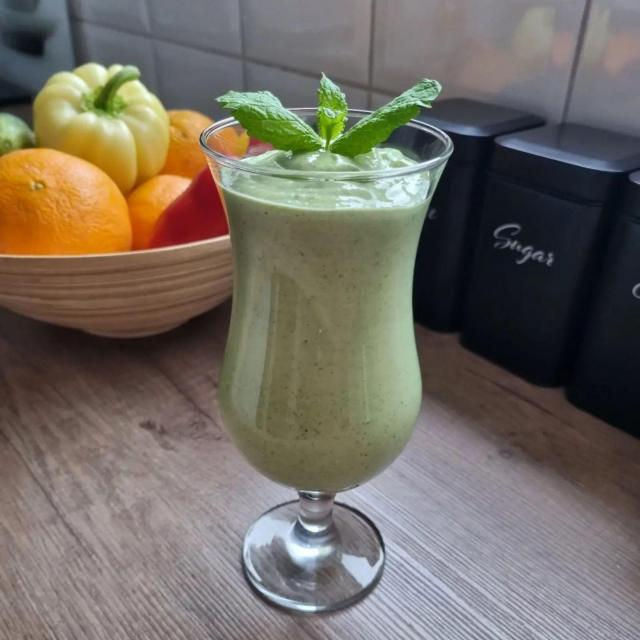glass-wine: (199, 105, 454, 616)
